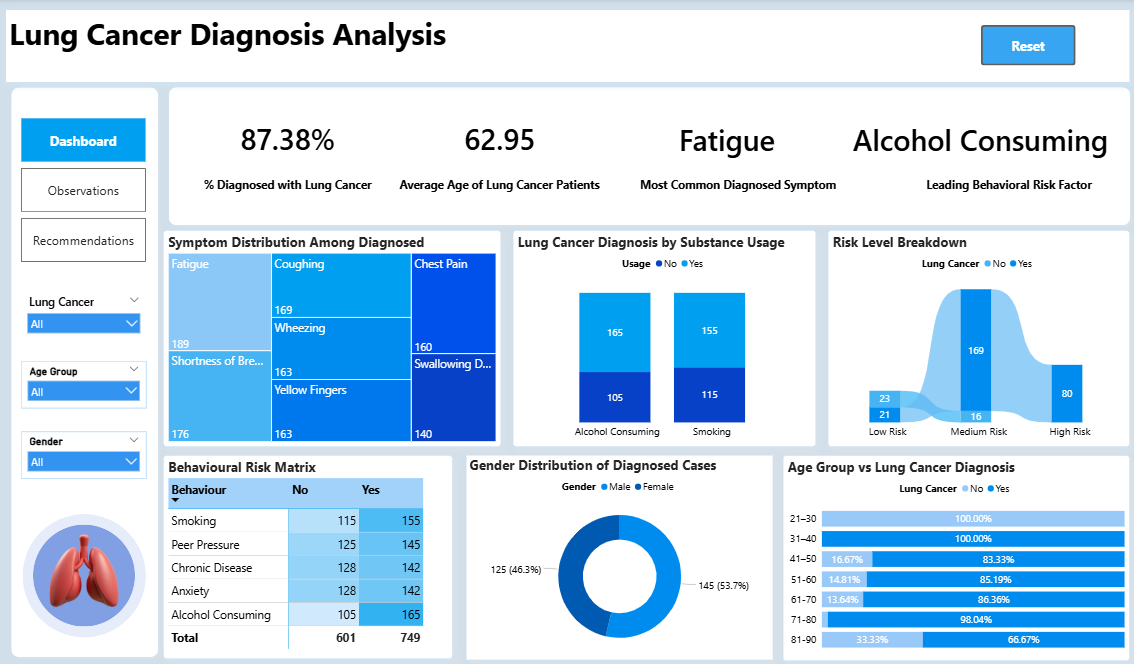

This screenshot's page, from the dashboard's own definition file:
{"tool":"powerbi","page":{"name":"Dashboard","canvas":[1850,1100],"ordinal":0},"visuals":[{"type":"shape","box":[19.4,136.1,255.2,940.4],"z":0},{"type":"shape","box":[274.6,136.1,1574.7,240.6],"z":1000},{"type":"treemap","title":"Symptom Distribution Among Diagnosed","fields":{"Group":["Symptom Breakdown.Symptom"],"Values":["CountNonNull(Symptom Breakdown.Partcipant ID)"]},"box":[274.6,376.7,546.8,349.9],"z":2000},{"type":"pageNavigator","box":[43.6,194.5,202.7,235.5],"z":3000},{"type":"hundredPercentStackedBarChart","title":"Age Group vs Lung Cancer Diagnosis","fields":{"Y":["CountNonNull(Survey Lung Cancer.Partcipant ID)"],"Category":["Lung Cancer.Age Group"],"Series":["Lung Cancer.Lung Cancer"]},"box":[1278.2,741.2,561.4,332.9],"z":4000},{"type":"donutChart","title":"Gender Distribution of Diagnosed Cases","fields":{"Category":["Lung Cancer.Gender"],"Series":["Lung Cancer.Lung Cancer"],"Y":["CountNonNull(Lung Cancer.Partcipant ID)"]},"box":[765.5,741.2,495.7,330.5],"z":5000},{"type":"textbox","box":[305.7,285.4,338.9,35.6],"z":6000},{"type":"textbox","box":[19.4,19.4,1820.1,116.6],"z":7000},{"type":"pivotTable","title":"Behavioural Risk Matrix","fields":{"Rows":["Behavioural Breakdown.Behaviour"],"Values":["CountNonNull(Behavioural Breakdown.Partcipant ID)"],"Columns":["Behavioural Breakdown.Presence"]},"box":[274.6,740.2,468,329.5],"z":8000},{"type":"columnChart","title":"Lung Cancer Diagnosis by Substance Usage","fields":{"Category":["Substance Consumption.Substance"],"Y":["CountNonNull(Substance Consumption.Partcipant ID)"],"Series":["Substance Consumption.Presence"]},"box":[840.8,376.7,490.9,349.9],"z":9000},{"type":"card","fields":{"Values":["Lung Cancer.Patients with Lung Cancer"]},"box":[330.2,168.9,290,113.1],"z":15000},{"type":"card","fields":{"Values":["Lung Cancer.Average Age of Lung Cancer Patients"]},"box":[673.1,170.1,291.6,114.2],"z":16000},{"type":"textbox","box":[648.8,284.3,340.2,36.5],"z":17000},{"type":"textbox","box":[1020.6,284.3,369.4,36.5],"z":18000},{"type":"card","fields":{"Values":["Symptom Breakdown.Most Common Symptom Amongst Diagnosed"]},"box":[1042.5,172.5,289.2,111.8],"z":19000},{"type":"card","fields":{"Values":["Behavioural Breakdown.LeadingBehaviorRiskSummary"]},"box":[1373,160.4,449.6,136.1],"z":20000},{"type":"textbox","box":[1475.9,285.4,338.6,35.7],"z":21000},{"type":"slicer","fields":{"Values":["Lung Cancer.Lung Cancer"]},"box":[43.3,473.3,203.3,77.8],"z":22000},{"type":"shape","box":[45.6,835.7,200,200],"z":23000},{"type":"shape","box":[62.9,853,165.3,165.3],"z":24000},{"type":"image","box":[67.9,845.9,155,165],"z":25000},{"type":"slicer","fields":{"Values":["Lung Cancer.Age Group"]},"box":[43.3,587.8,203.3,76.7],"z":26000},{"type":"slicer","fields":{"Values":["Lung Cancer.Gender"]},"box":[43.3,703.3,203.3,76.7],"z":27000},{"type":"ribbonChart","title":"Risk Level Breakdown","fields":{"Category":["Lung Cancer.Symptom Risk Category"],"Series":["Lung Cancer.Lung Cancer"],"Y":["CountNonNull(Lung Cancer.Partcipant ID)"]},"box":[1351.1,376.7,488.5,349.9],"z":28000},{"type":"actionButton","box":[1599,43.7,153.1,65.6],"z":29000}]}

Visuals, with their boxes in screenshot pixels (x1, y1, x2, y2), scaled from the page's 1850x1100 canvas onto the 1134x664 screenshot:
shape: left=12, top=82, right=168, bottom=650
shape: left=168, top=82, right=1133, bottom=227
"Symptom Distribution Among Diagnosed" treemap: left=168, top=227, right=503, bottom=439
pageNavigator: left=27, top=117, right=151, bottom=260
"Age Group vs Lung Cancer Diagnosis" hundredPercentStackedBarChart: left=784, top=447, right=1128, bottom=648
"Gender Distribution of Diagnosed Cases" donutChart: left=469, top=447, right=773, bottom=647
textbox: left=187, top=172, right=395, bottom=194
textbox: left=12, top=12, right=1128, bottom=82
"Behavioural Risk Matrix" pivotTable: left=168, top=447, right=455, bottom=646
"Lung Cancer Diagnosis by Substance Usage" columnChart: left=515, top=227, right=816, bottom=439
card - Lung Cancer.Patients with Lung Cancer: left=202, top=102, right=380, bottom=170
card - Lung Cancer.Average Age of Lung Cancer Patients: left=413, top=103, right=591, bottom=172
textbox: left=398, top=172, right=606, bottom=194
textbox: left=626, top=172, right=852, bottom=194
card - Symptom Breakdown.Most Common Symptom Amongst Diagnosed: left=639, top=104, right=816, bottom=172
card - Behavioural Breakdown.LeadingBehaviorRiskSummary: left=842, top=97, right=1117, bottom=179
textbox: left=905, top=172, right=1112, bottom=194
slicer - Lung Cancer.Lung Cancer: left=27, top=286, right=151, bottom=333
shape: left=28, top=504, right=151, bottom=625
shape: left=39, top=515, right=140, bottom=615
image: left=42, top=511, right=137, bottom=610
slicer - Lung Cancer.Age Group: left=27, top=355, right=151, bottom=401
slicer - Lung Cancer.Gender: left=27, top=425, right=151, bottom=471
"Risk Level Breakdown" ribbonChart: left=828, top=227, right=1128, bottom=439
actionButton: left=980, top=26, right=1074, bottom=66
